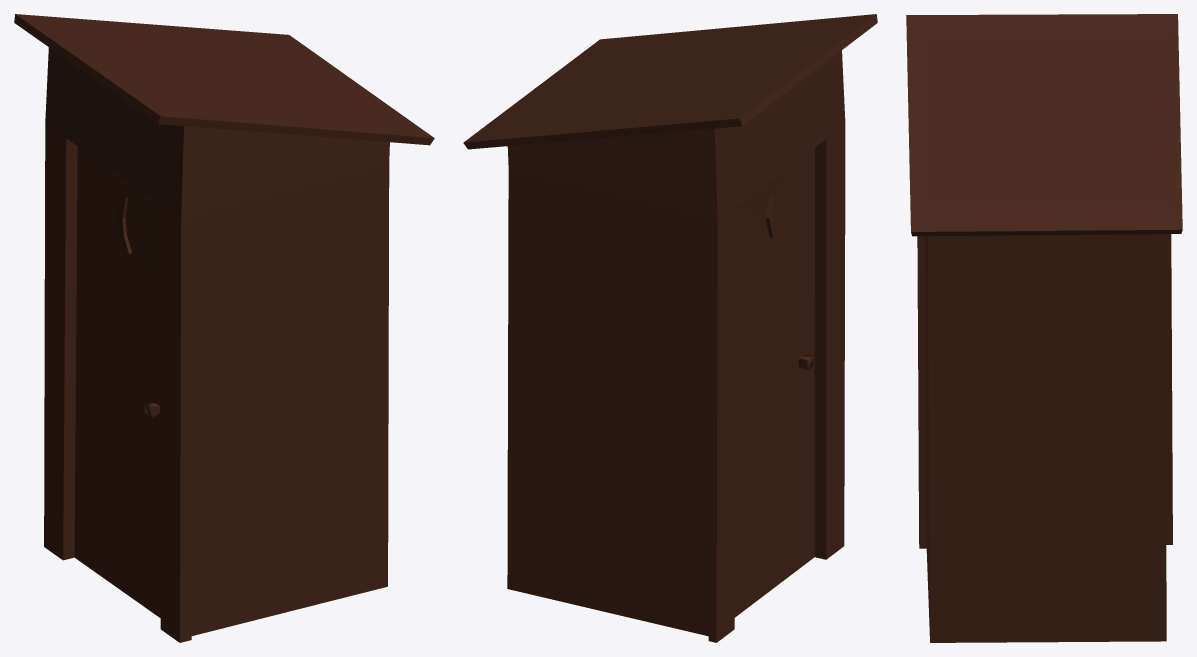
Rendered from Cesso.fbx.
3 views of the same model, side by side, from view 1: azimuth 30°, elevation 25°; view 2: azimuth 150°, elevation 25°; view 3: azimuth 270°, elevation 25° (orthographic). The views are drawn at different scales.
Parts seen in each view (by area): view 1: Cube.029; view 2: Cube.029; view 3: Cube.029.
Boxes of the visible parts, x1,y1,x2,y2 form: Cube.029: (14,14,434,642); Cube.029: (463,14,877,642); Cube.029: (906,14,1182,642).
Bounding box in the file's own units: 30.44 × 55.5 × 26.97.
